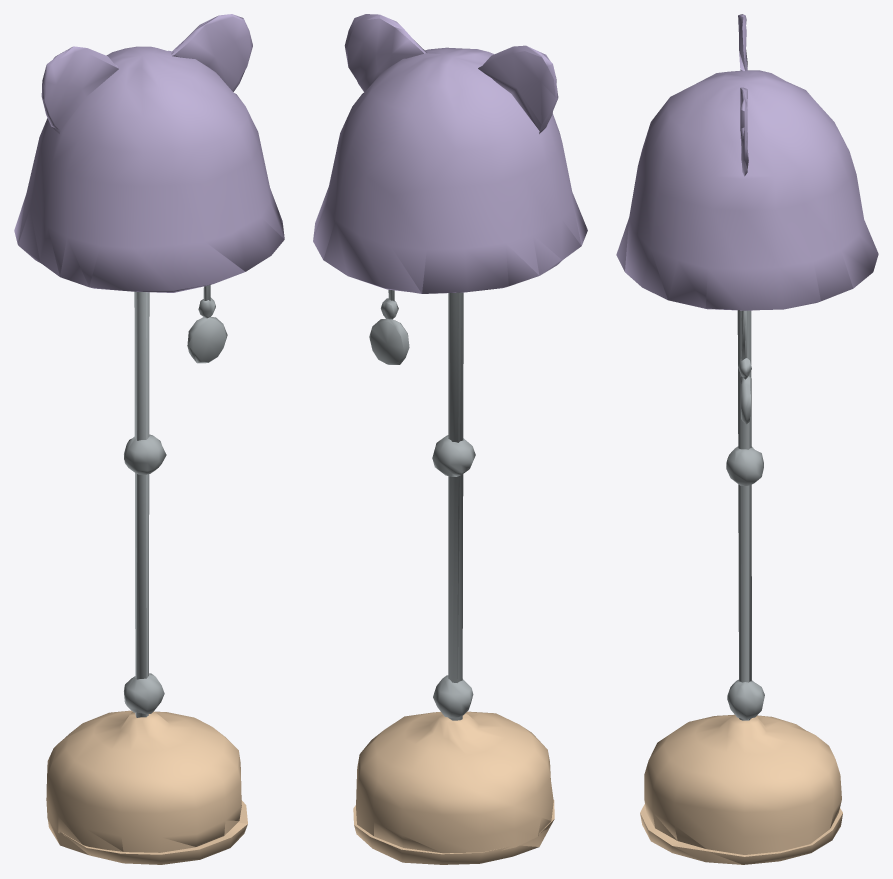
Rendered from bedroom_floor_lamp.glb.
The picture shows the model from 3 angles, left to right: view 1: azimuth 30°, elevation 25°; view 2: azimuth 150°, elevation 25°; view 3: azimuth 270°, elevation 25°; orthographic projection. The views are drawn at different scales.
Size of the model in its own units: 0.63 by 2.1 by 0.6446.
